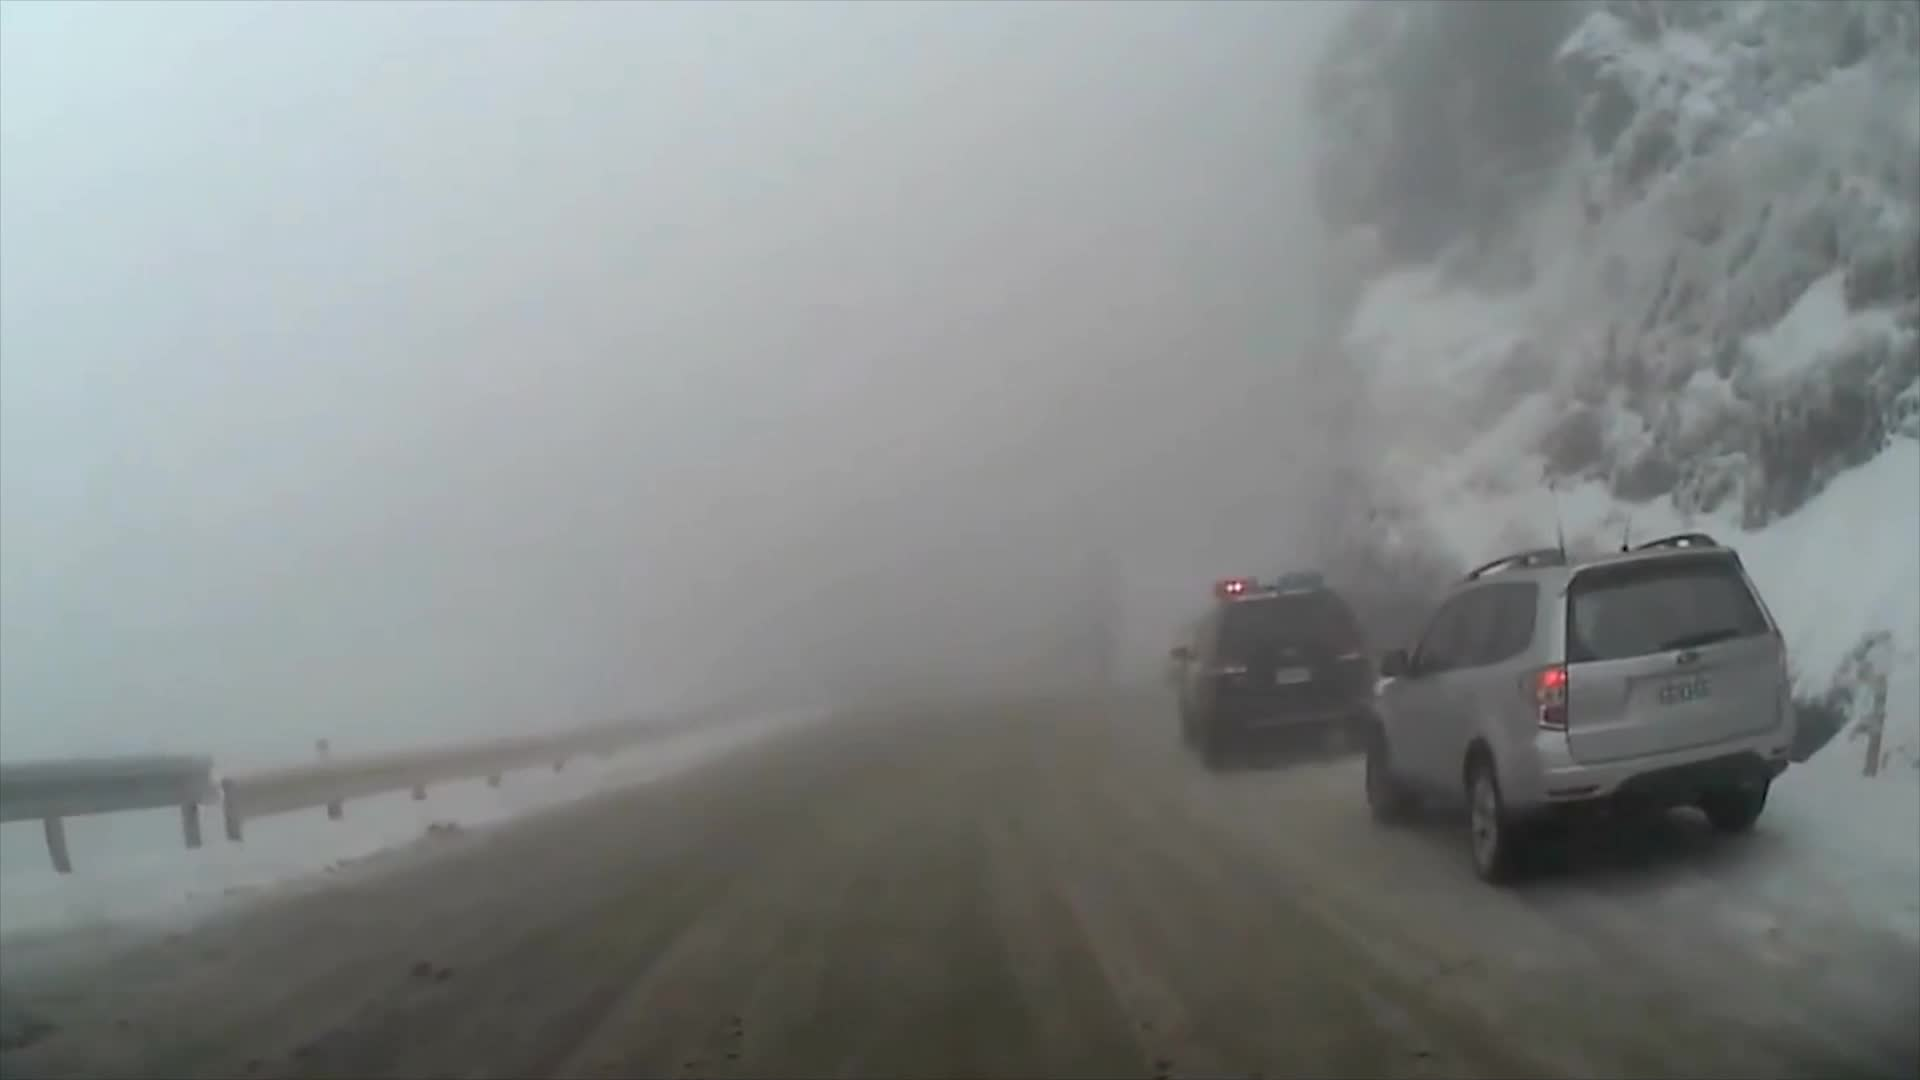vehicle: (1364, 530, 1804, 884), (1164, 568, 1373, 771)
